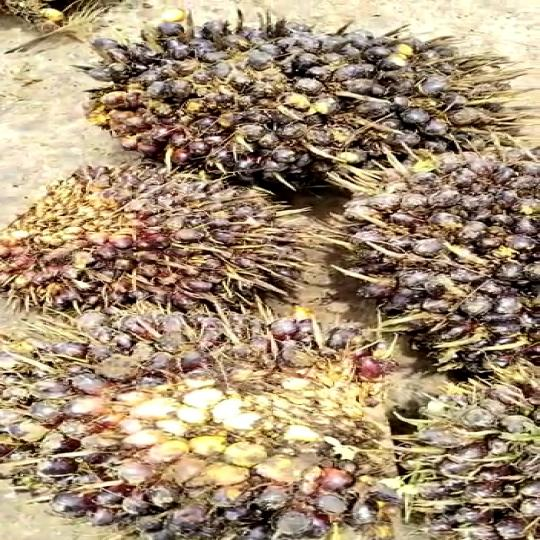mentah: (0, 306, 522, 539), (87, 2, 540, 205), (0, 164, 334, 316), (336, 139, 535, 363)
